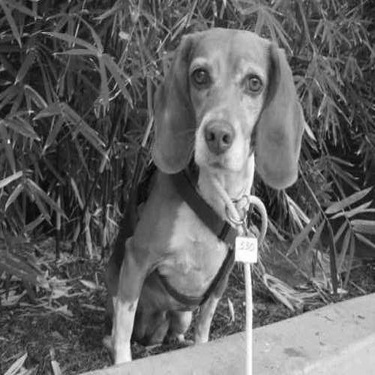dog: (97, 27, 309, 369)
